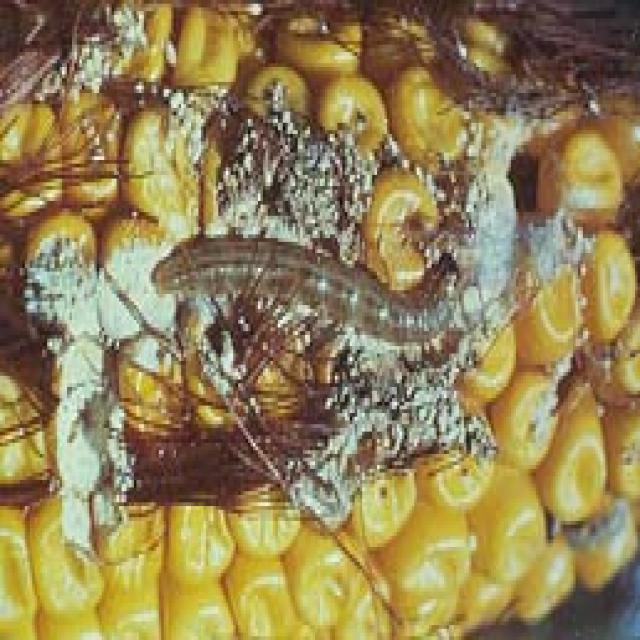cornborer-Larva-: (147, 204, 492, 370)
